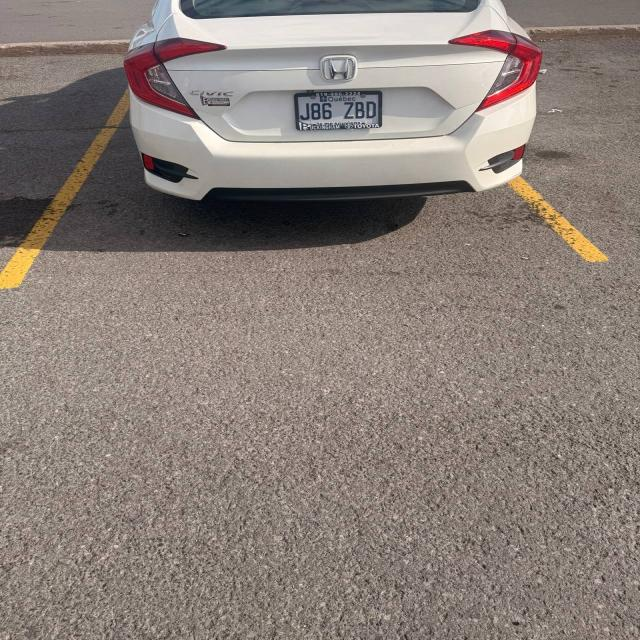plaque: (294, 91, 381, 130)
